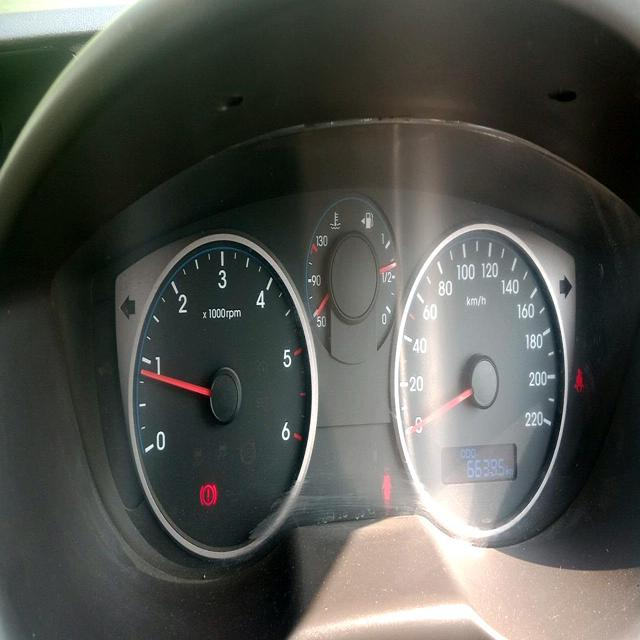odometer: (465, 456, 506, 479)
